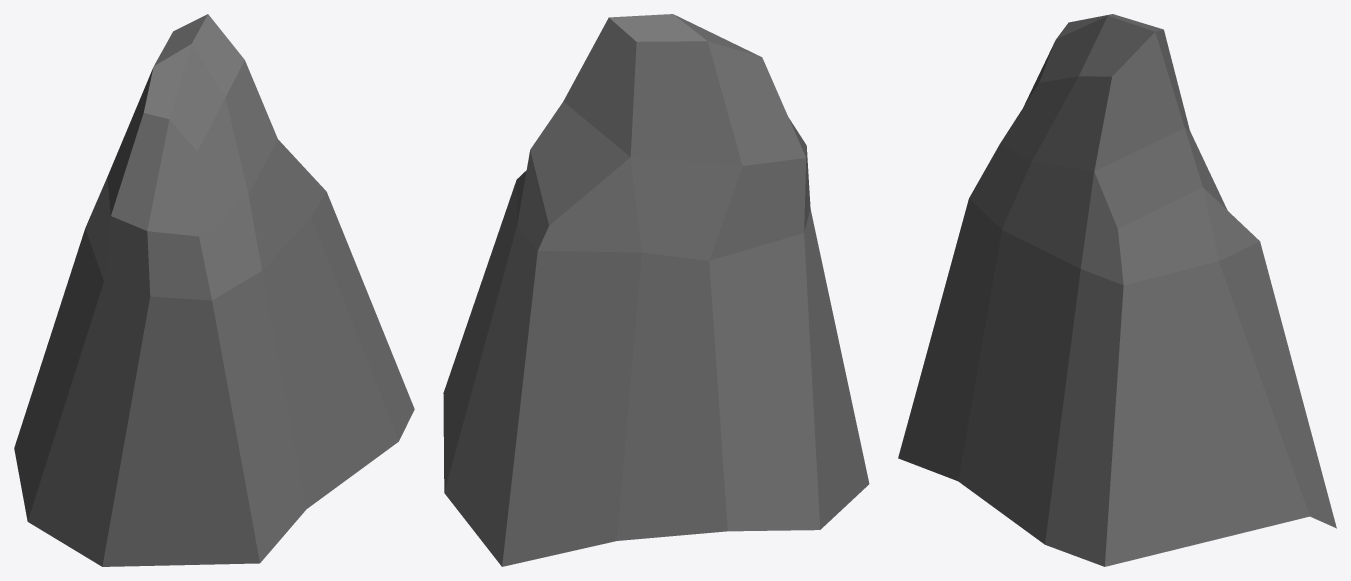
File: M_Rock_Obstacle_2.fbx
3 renders of one model, left to right at view 1: azimuth 30°, elevation 25°; view 2: azimuth 150°, elevation 25°; view 3: azimuth 270°, elevation 25°, orthographic. The views are drawn at different scales.
Parts seen in each view (by area): view 1: M_Rock_Obstacle_2; view 2: M_Rock_Obstacle_2; view 3: M_Rock_Obstacle_2.
Boxes of the visible parts, x1=… form: M_Rock_Obstacle_2: x1=14, y1=14, x2=414, y2=566; M_Rock_Obstacle_2: x1=443, y1=14, x2=869, y2=566; M_Rock_Obstacle_2: x1=898, y1=14, x2=1336, y2=566.
Bounding box in the file's own units: 448 × 534 × 435.
